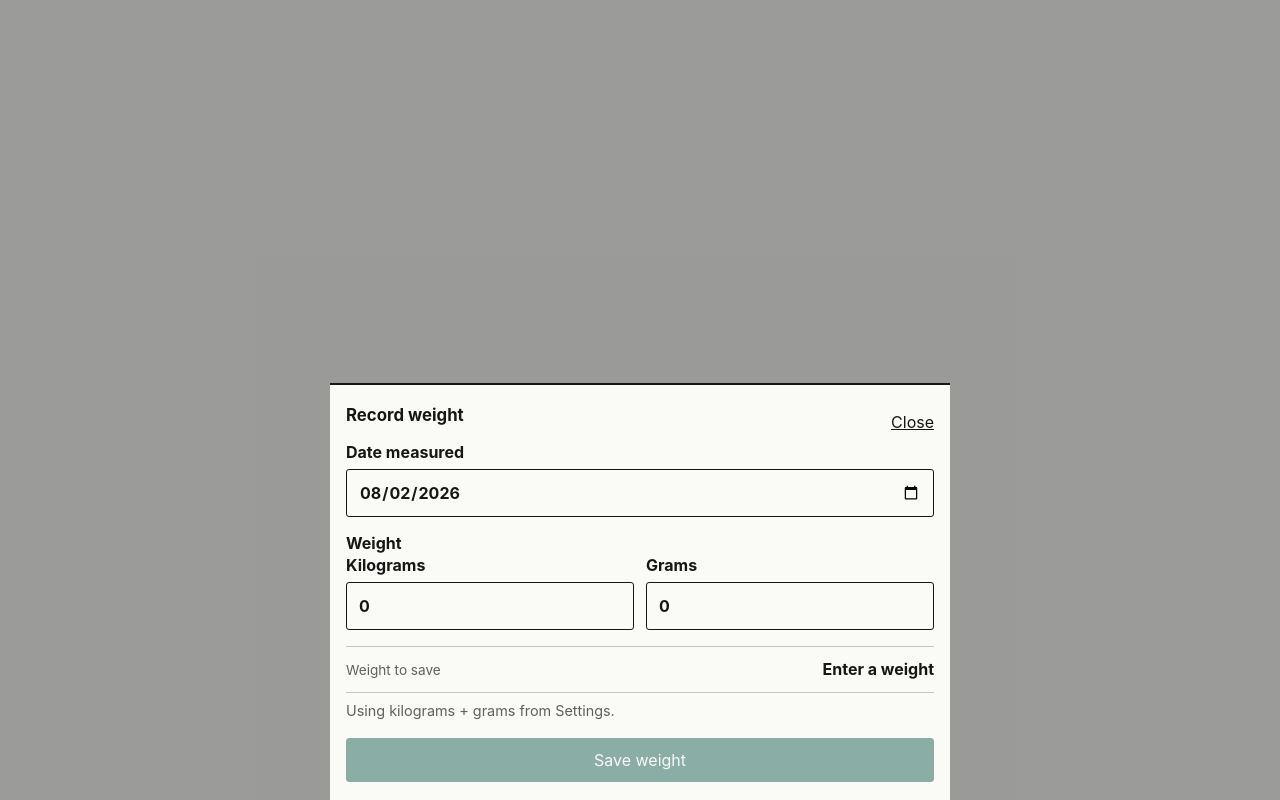
Test: Weight editor › uses kg + g fields and rejects a future date
Replace the text in the number field labelled "Kilograms" with "3": (490, 606) 346,582 -> 634,630
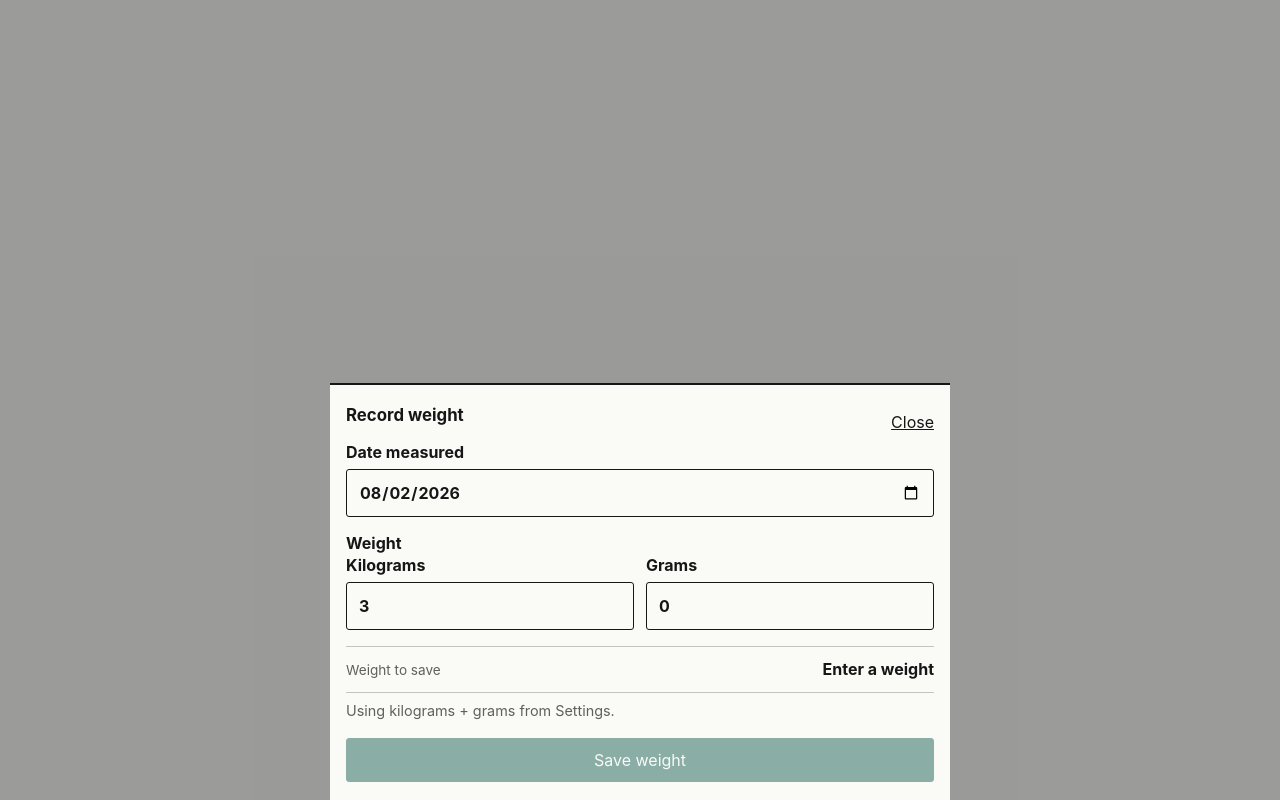
Replace the text in the number field labelled "Grams" with "799": (790, 606) 646,582 -> 934,630
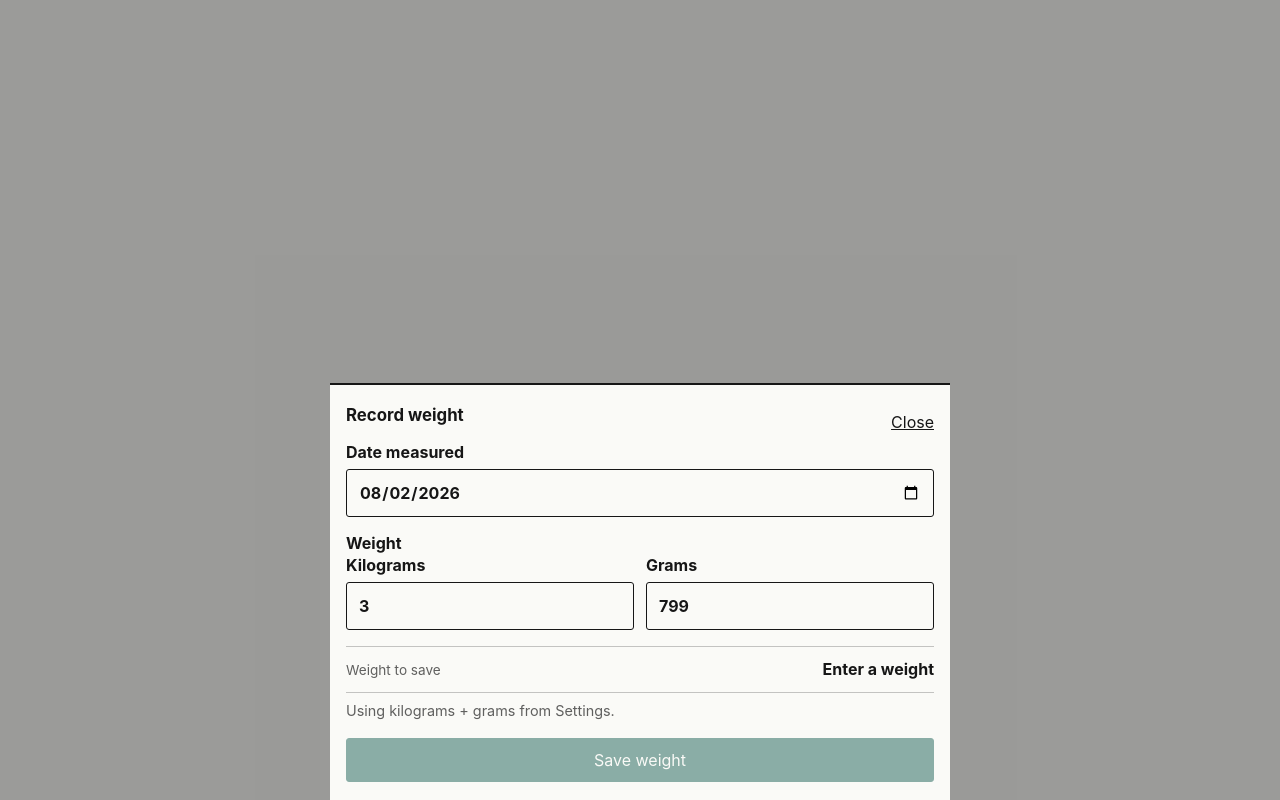
In the date field labelled "Date measured": (640, 493) 346,469 -> 934,517, type "2026-08-03"
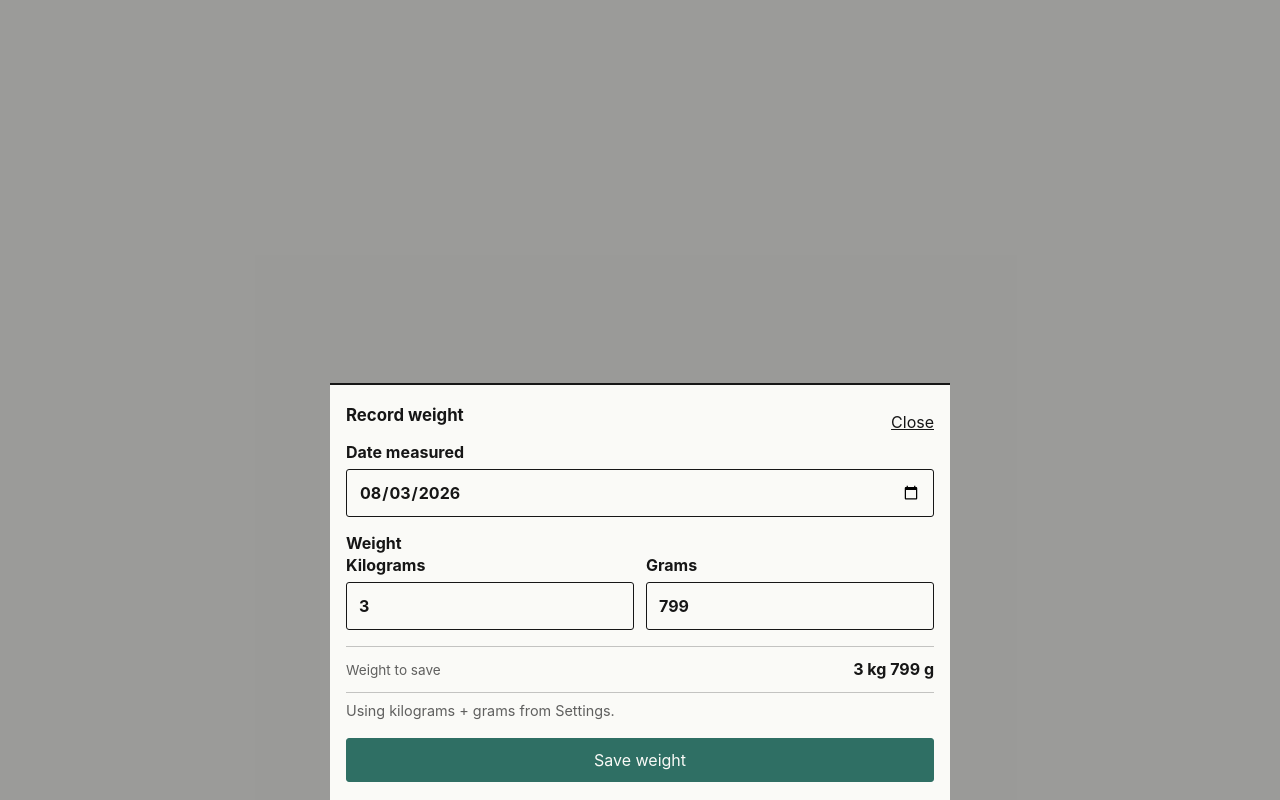
Click the button "Save weight": (640, 760) 346,738 -> 934,782
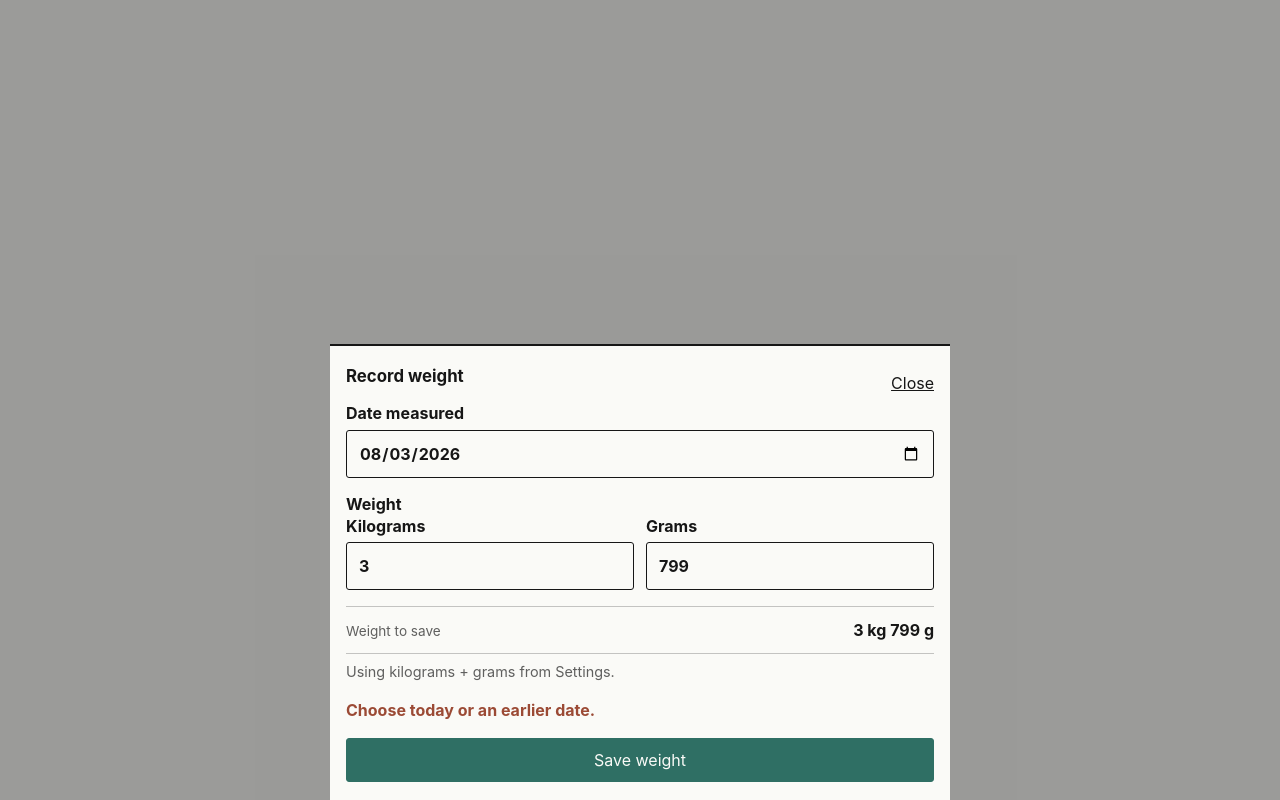
Expected: the message "Choose today or an earlier date." is shown, 346,700 -> 595,720
